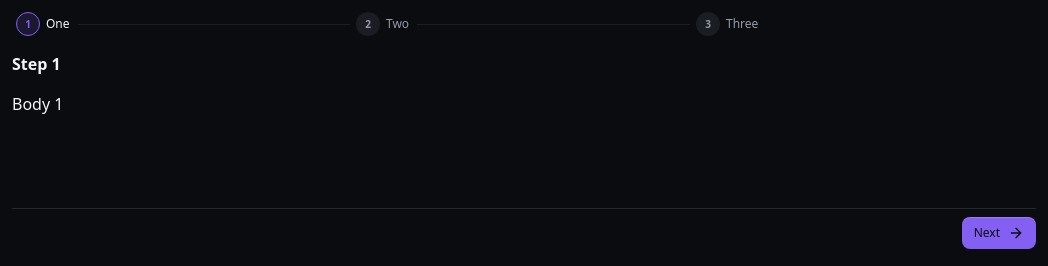
Test: Wizard — navigation › goes Back to prior step
The image size is (1048, 266).
Click the button "Next": click(999, 233) x1=962 y1=217 x2=1036 y2=249
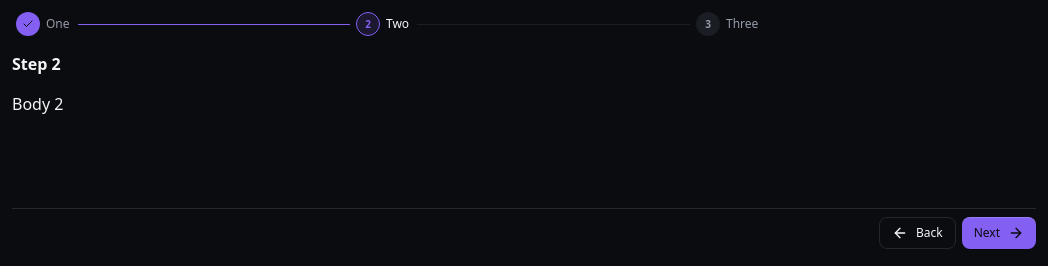
Expected: the text "Body 2" is shown, x1=12 y1=93 x2=63 y2=115
Click the button "Back": click(917, 233) x1=879 y1=217 x2=956 y2=249
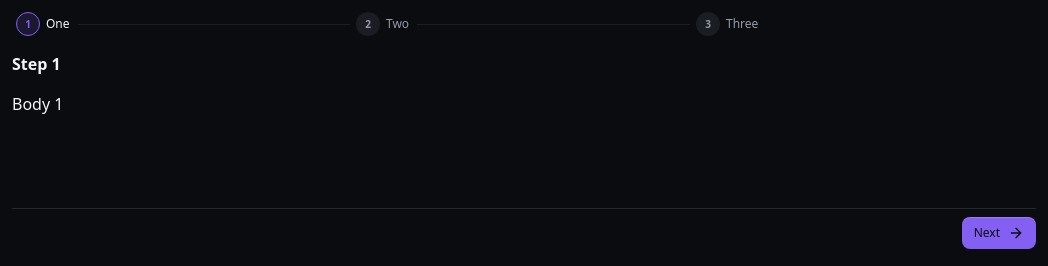
Expected: the text "Body 1" is shown, x1=12 y1=93 x2=63 y2=115
